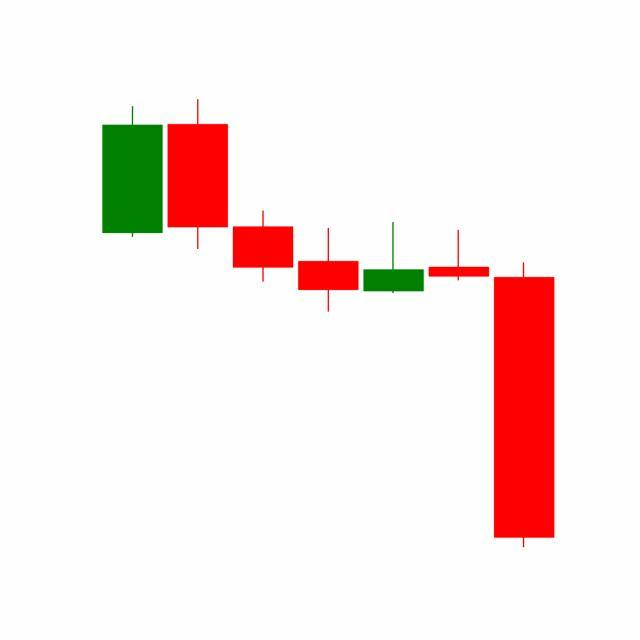Hikkake Pattern: (229, 207, 555, 549)
